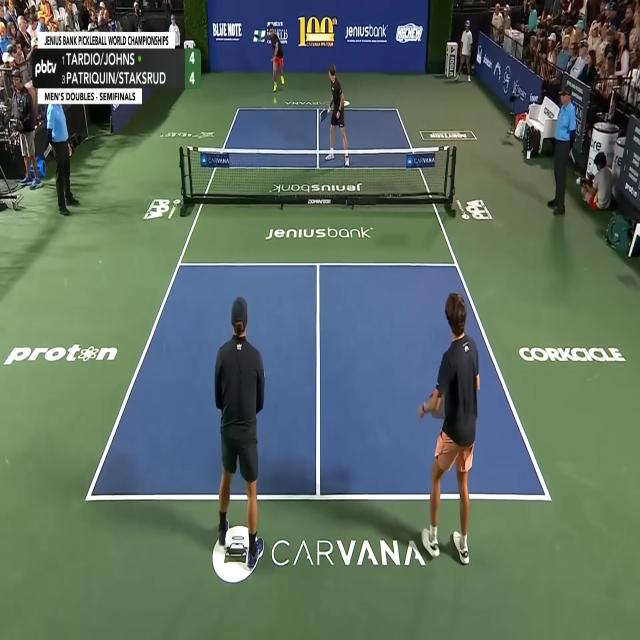ball: (273, 97, 277, 104)
